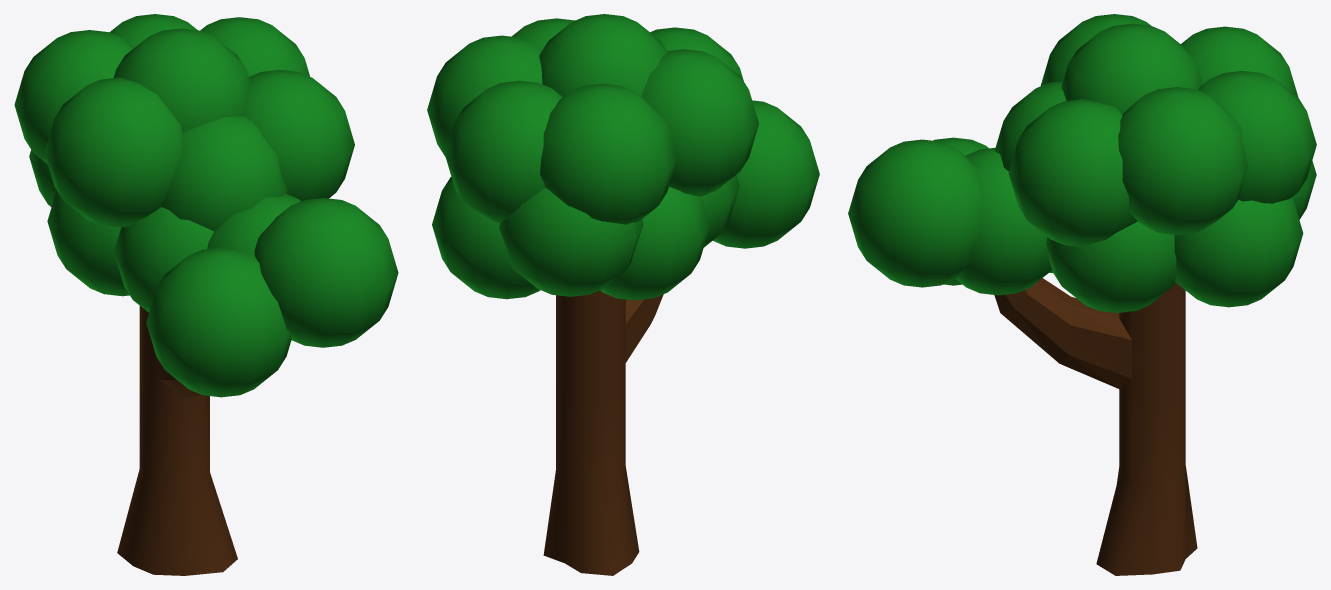
Rendered from Green_Tree_V1.fbx.
3 renders of one model, left to right at view 1: azimuth 30°, elevation 25°; view 2: azimuth 150°, elevation 25°; view 3: azimuth 270°, elevation 25°, orthographic.
Parts seen in each view (by area): view 1: Tree_1; view 2: Tree_1; view 3: Tree_1.
Boxes of the visible parts, x1,y1,x2,y2 form: Tree_1: (14, 14, 398, 575); Tree_1: (427, 14, 819, 575); Tree_1: (848, 14, 1316, 575).
Size of the model in its own units: 182 by 326 by 265.
